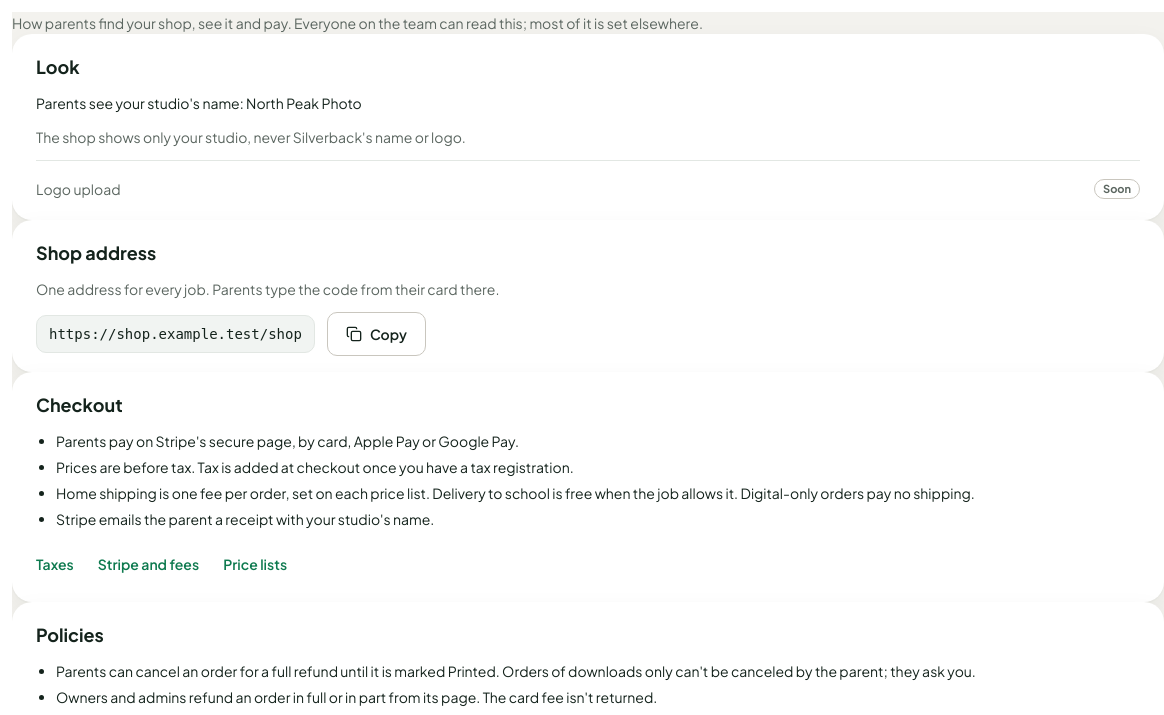
Test: Settings › Shop (D157) › says when the address couldn't be copied
The width and height of the screenshot is (1164, 715).
What coordinates should you click on to do the following:
click the button with aria-label "Copy the shop address"
I would click on:
 (376, 334)
Its box is [327, 312, 426, 356].
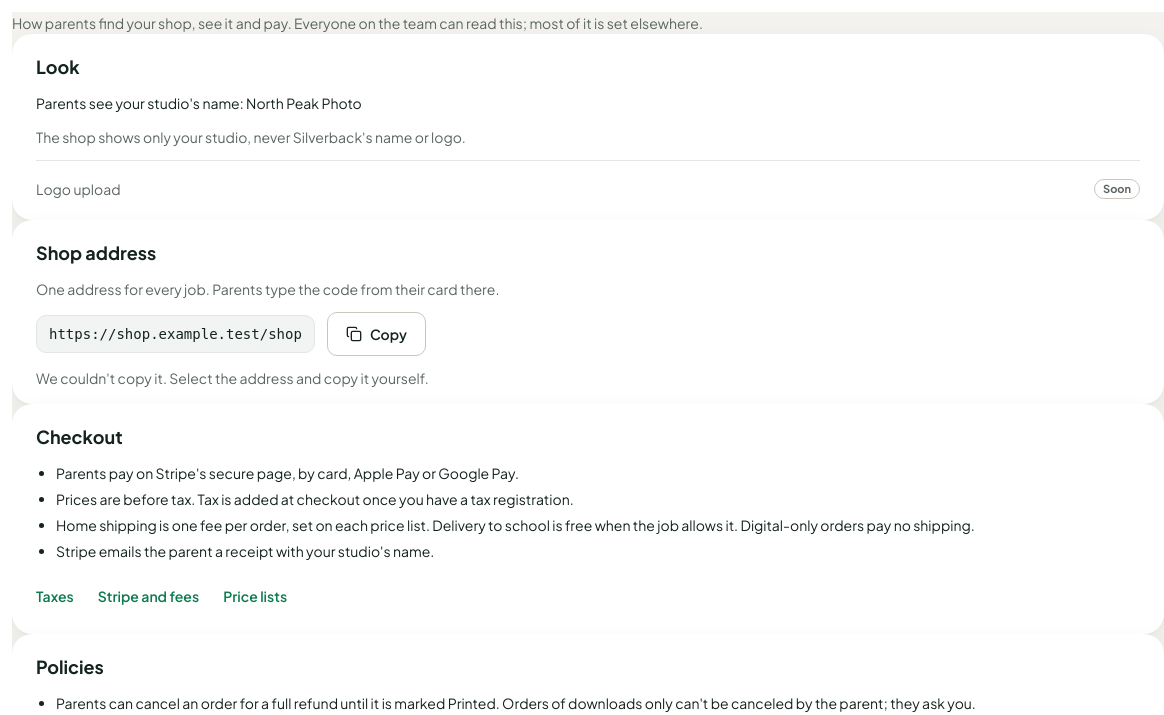
Expected: the message "We couldn't copy it. Select the address and copy it yourself." is shown, [36, 369, 429, 387]
